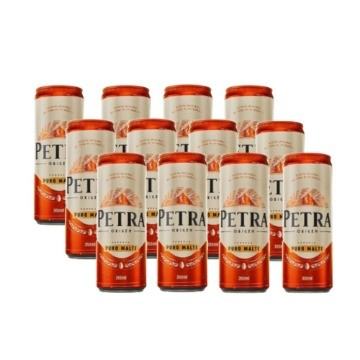petra: (30, 81, 340, 312)
